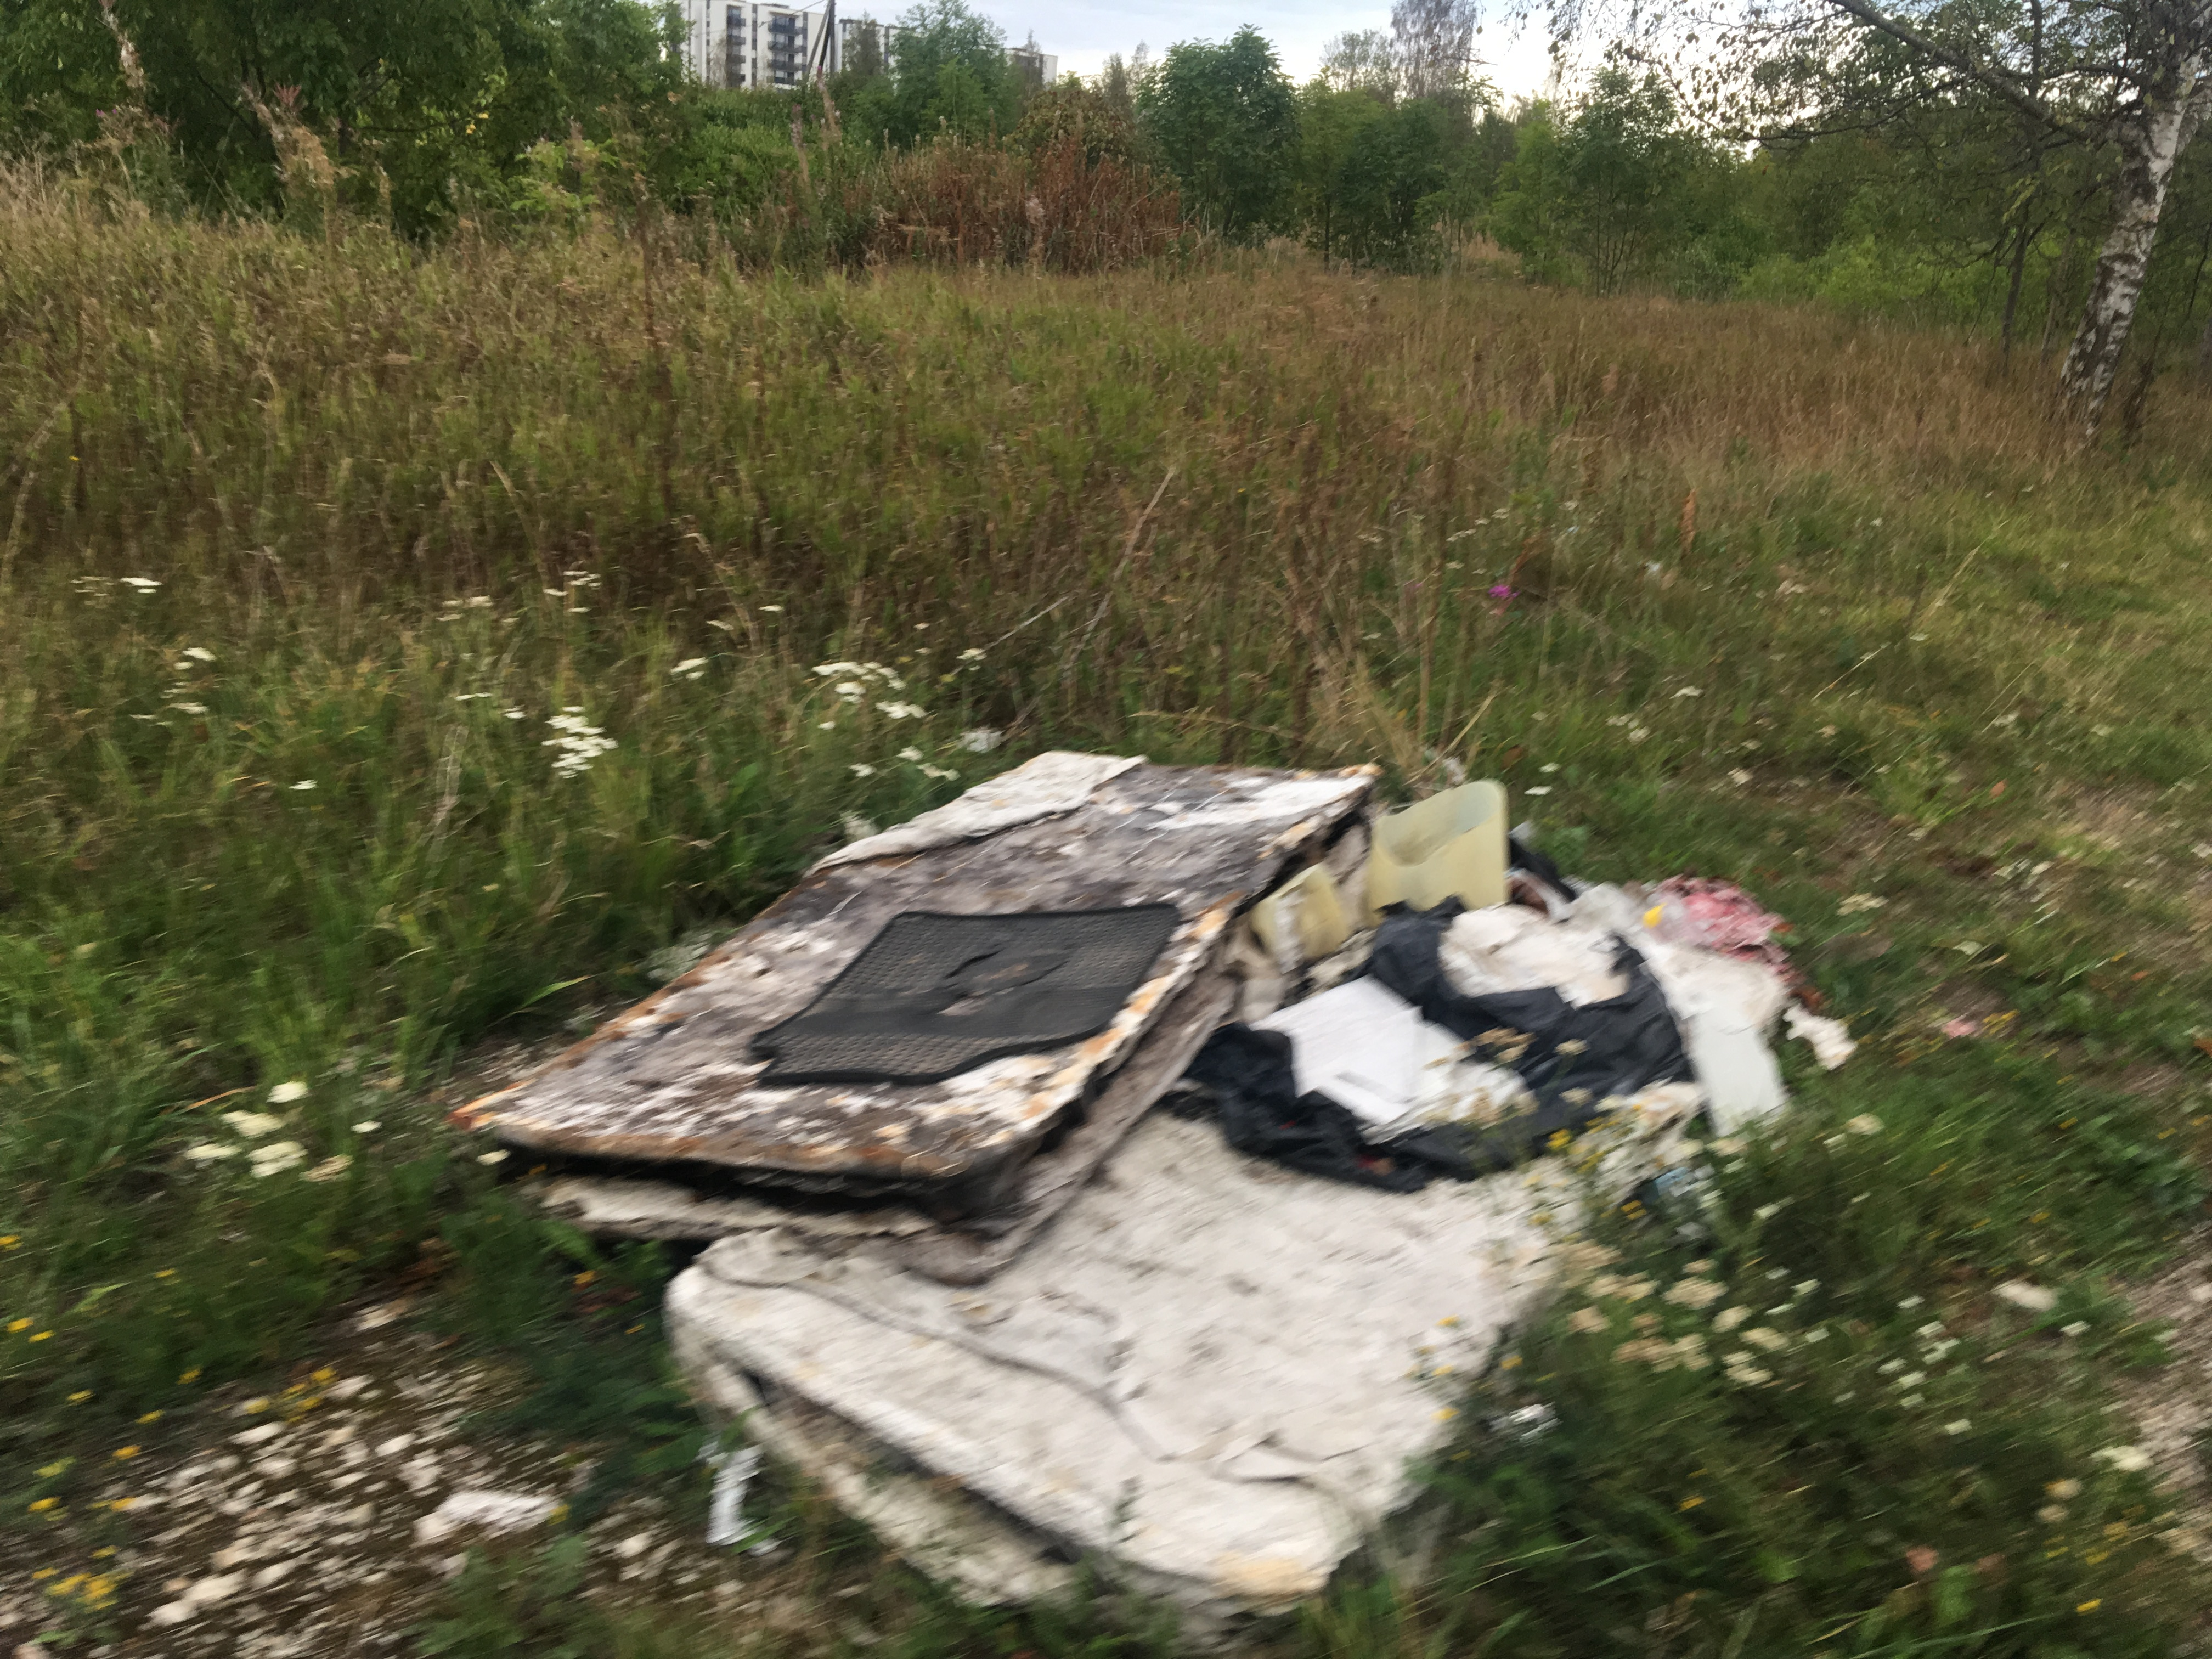trash: (401, 532, 1818, 1598)
